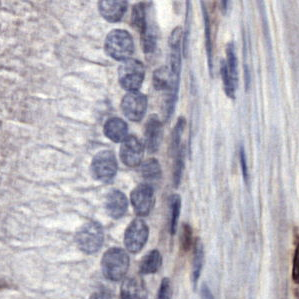Lymphocyte: (180, 222, 194, 253)
